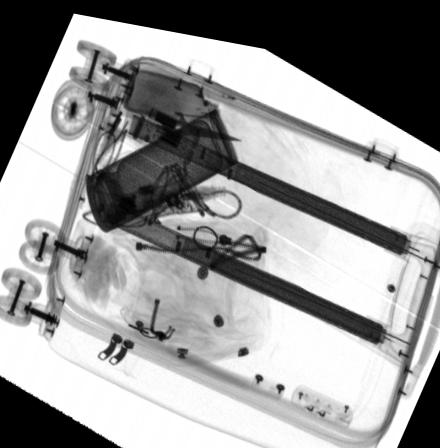Scissors: (131, 73, 246, 158)
